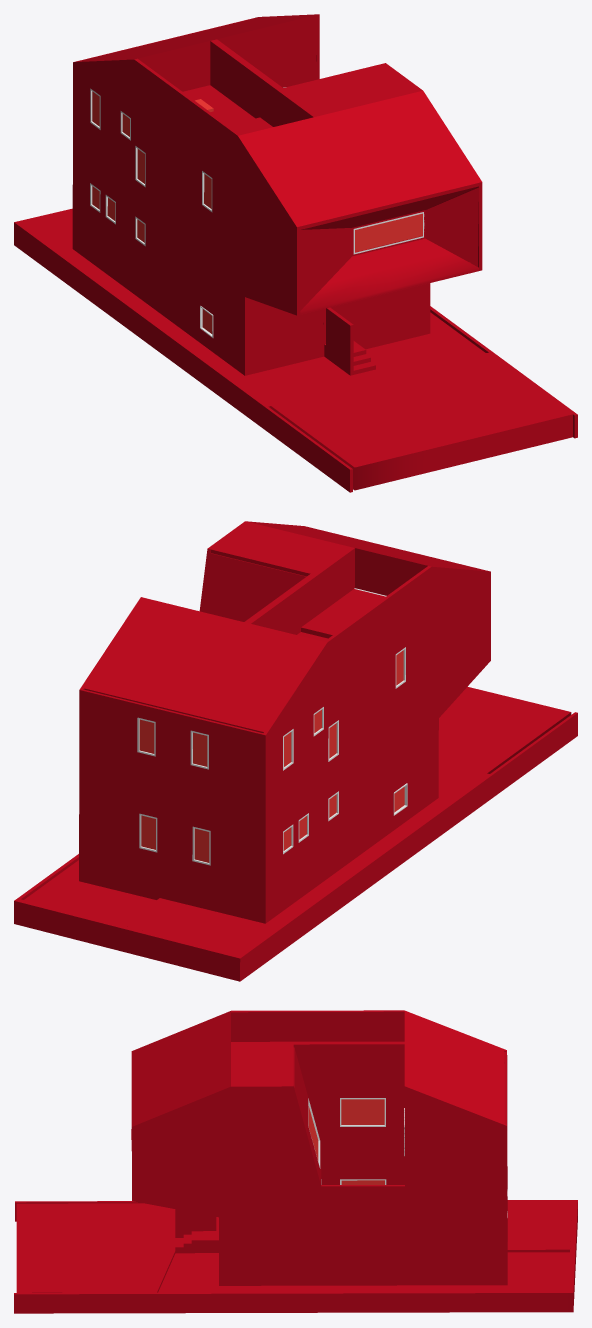
The model's file is asset.glb.
3 renders of one model, top to bottom at view 1: azimuth 30°, elevation 25°; view 2: azimuth 150°, elevation 25°; view 3: azimuth 270°, elevation 25°, orthographic. The views are drawn at different scales.
Visible parts, largest first — view 1: 3D_FACADE_BLACK, 3D_FIRST FLOOR, 3D_FACADE_REFLECTIVE, 3D_SURROUNDING CONTEXT, 3D_WALL, 3D_WINDOW FRAMES, 3D_TURF, 3d_Glass, 3D_FACADE_REFLECTIVE.001, Windows frames, 3D_FLOOR, 3D_FACADE_WHITE; view 2: 3D_FACADE_BLACK, 3D_FIRST FLOOR, 3D_SURROUNDING CONTEXT, 3D_FACADE_WHITE, 3D_TURF, 3d_Glass, 3D_WINDOW FRAMES, Windows frames, 3D_FLOOR, 3D_WALL; view 3: 3D_FACADE_BLACK, 3D_FIRST FLOOR, 3D_SURROUNDING CONTEXT, 3D_FACADE_WHITE, 3D_TURF, 3d_Glass, Windows frames.
Part boxes in pixels (x1,y1,x2,y2): 3D_FACADE_BLACK: (72,14,482,363); 3D_FIRST FLOOR: (31,212,572,490); 3D_FACADE_REFLECTIVE: (300,186,478,314); 3D_SURROUNDING CONTEXT: (14,208,577,492); 3D_WALL: (141,18,316,91); 3D_WINDOW FRAMES: (210,44,309,126); 3D_TURF: (366,312,485,369); 3d_Glass: (92,91,422,252); 3D_FACADE_REFLECTIVE.001: (425,187,478,266); Windows frames: (90,87,425,337); 3D_FLOOR: (183,85,470,262); 3D_FACADE_WHITE: (210,39,282,91); 3D_FACADE_BLACK: (79,521,490,911); 3D_FIRST FLOOR: (79,686,571,950); 3D_SURROUNDING CONTEXT: (14,712,577,981); 3D_FACADE_WHITE: (203,553,317,624); 3D_TURF: (24,860,156,924); 3d_Glass: (139,650,403,862); 3D_WINDOW FRAMES: (254,552,354,634); Windows frames: (137,647,407,865); 3D_FLOOR: (297,588,386,641); 3D_WALL: (355,551,424,595); 3D_FACADE_BLACK: (131,1010,507,1272); 3D_FIRST FLOOR: (16,1201,571,1292); 3D_SURROUNDING CONTEXT: (14,1200,577,1313); 3D_FACADE_WHITE: (293,1041,404,1184); 3D_TURF: (158,1252,569,1292); 3d_Glass: (308,1099,384,1184); Windows frames: (308,1098,507,1217).
Bounding box in the file's own units: 39.94 × 43.46 × 102.
